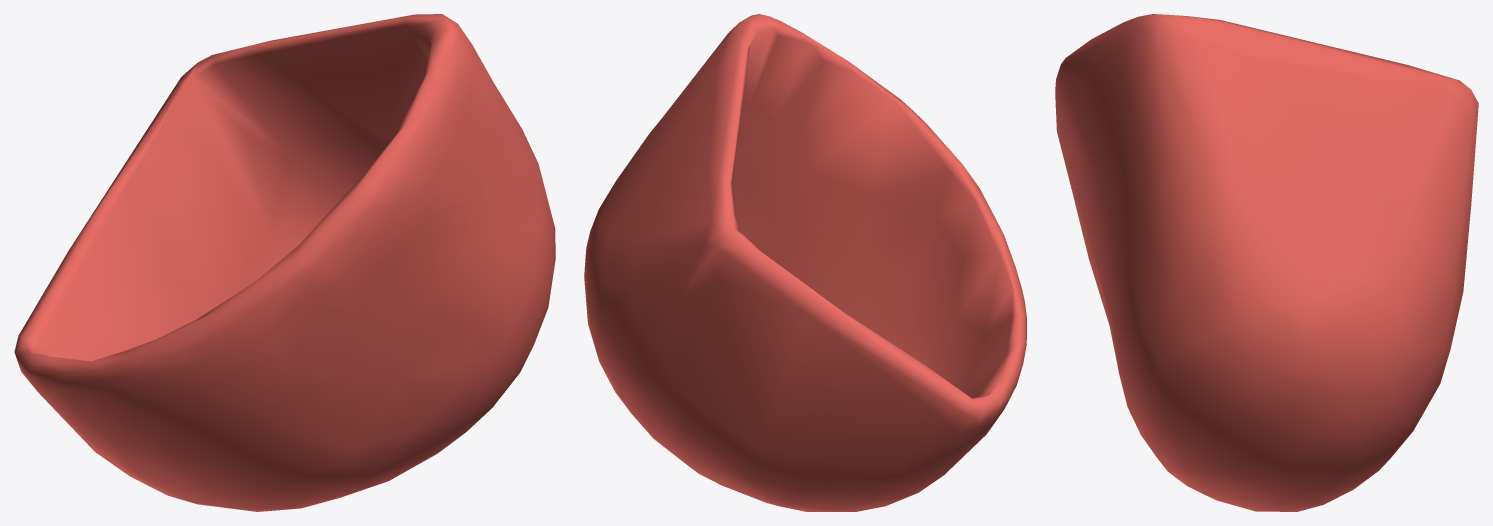
3 renders of one model, left to right at view 1: azimuth 30°, elevation 25°; view 2: azimuth 150°, elevation 25°; view 3: azimuth 270°, elevation 25°, orthographic. The views are drawn at different scales.
Parts seen in each view (by area): view 1: Right coronary leaflet.009; view 2: Right coronary leaflet.009; view 3: Right coronary leaflet.009.
Boxes of the visible parts, x1,y1,x2,y2 form: Right coronary leaflet.009: (14,14,555,511); Right coronary leaflet.009: (584,14,1026,511); Right coronary leaflet.009: (1055,14,1478,511).
Size of the model in its own units: 0.589 by 0.5678 by 0.4166.
